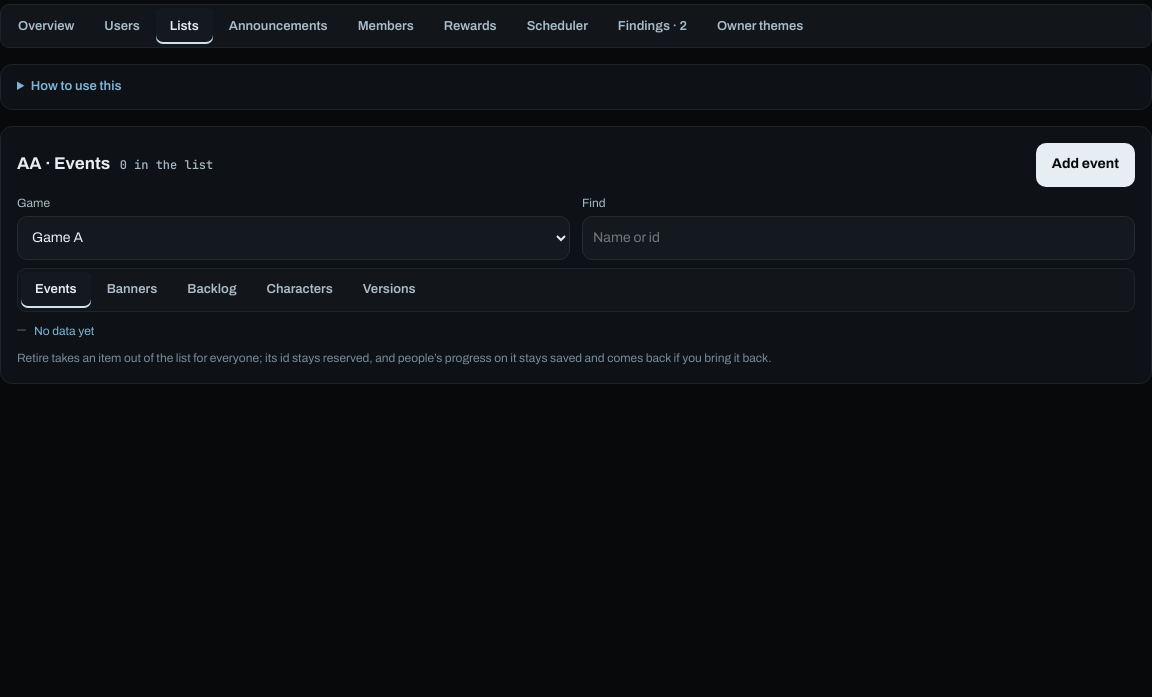
it: Owner console · Lists › adds a new event for everyone, and the game's list loader then includes it
Expected: the text "No data yet" is shown, x1=34 y1=323 x2=94 y2=340
Click the button "Add event" at (1085, 164), box x1=1036 y1=142 x2=1135 y2=186
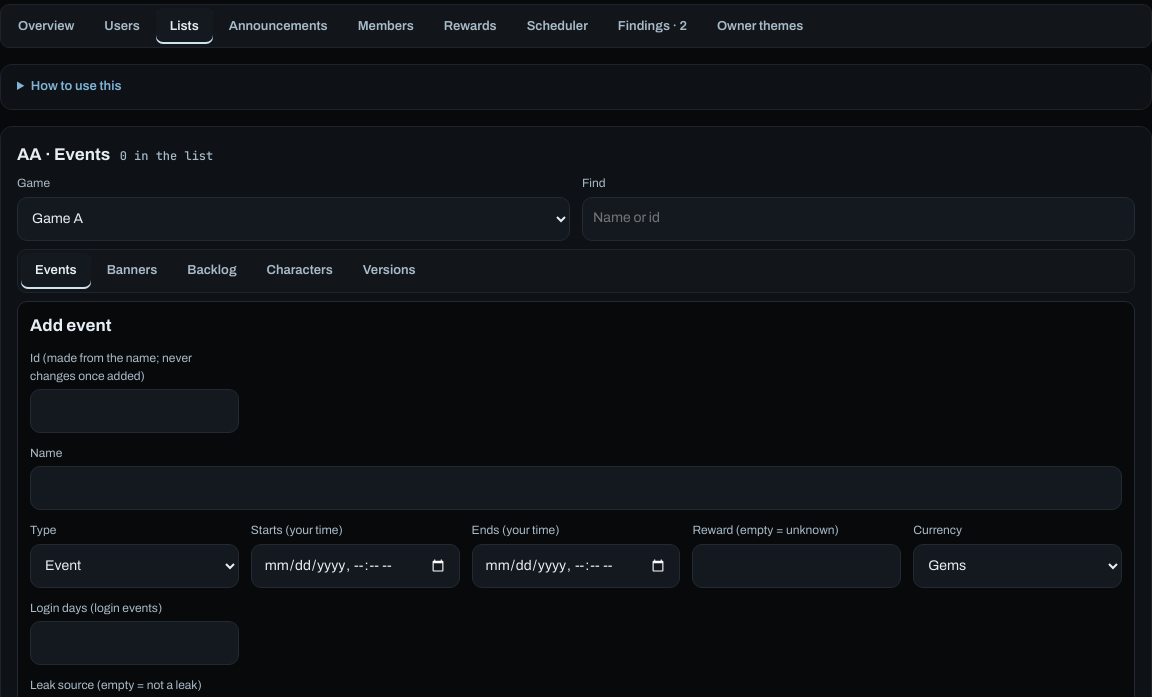
Type "Moon Festival" into the field labelled "Name" at (576, 488), box x1=30 y1=466 x2=1122 y2=510
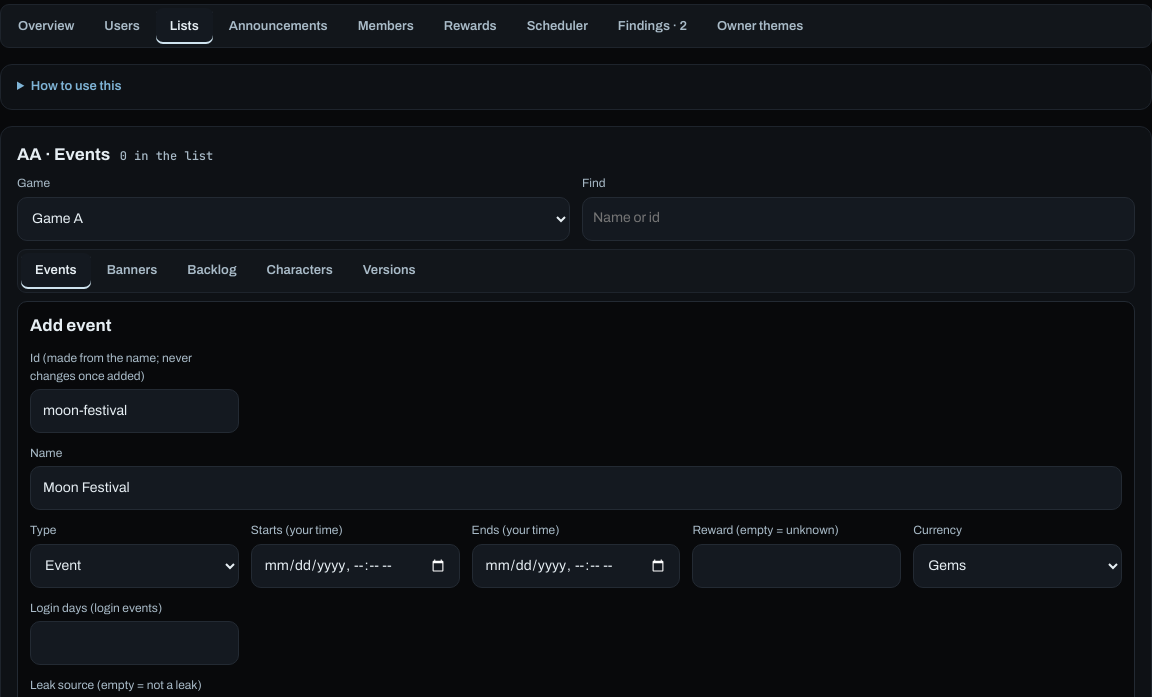
Type "2026-10-12T10:00" into the field labelled "Starts (your time)" at (355, 566), box x1=251 y1=544 x2=460 y2=588
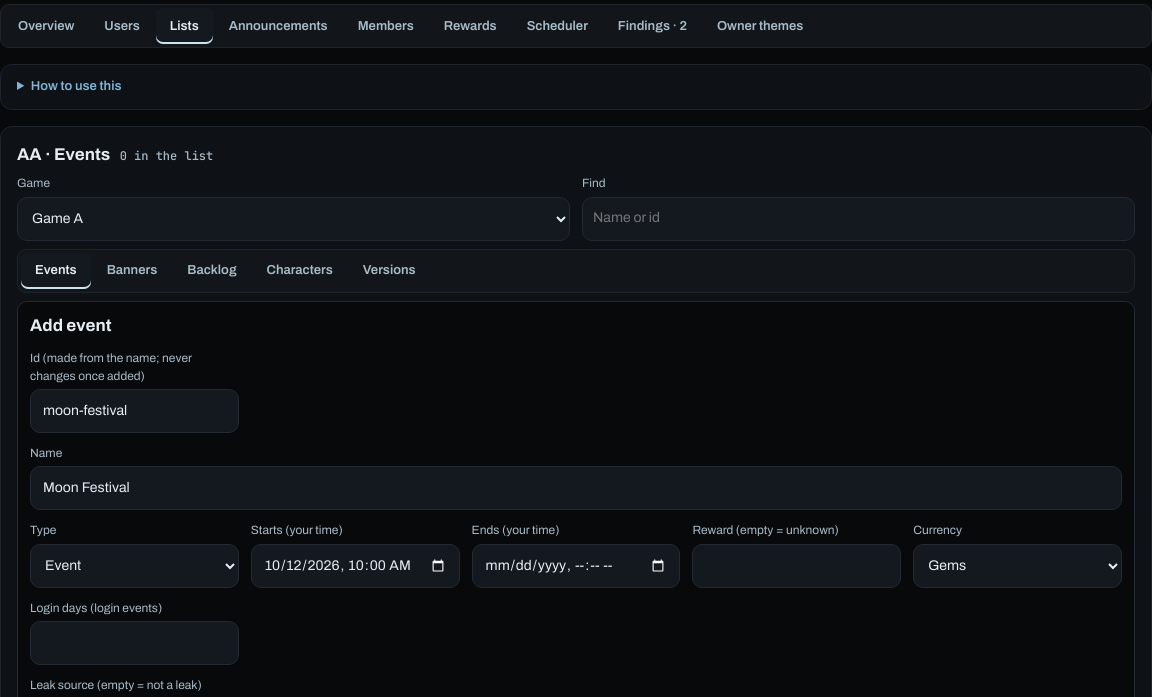
Type "2026-10-26T10:00" into the field labelled "Ends (your time)" at (576, 566), box x1=472 y1=544 x2=680 y2=588
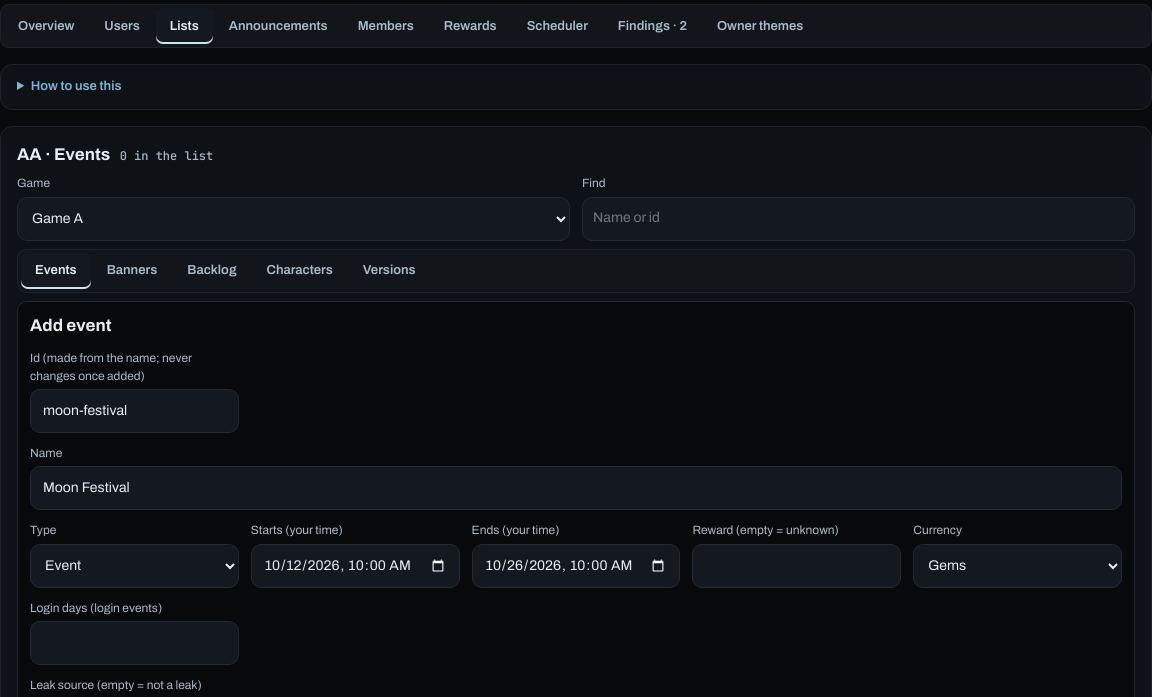
Type "420" into the field labelled "Reward (empty = unknown)" at (797, 566), box x1=692 y1=544 x2=901 y2=588
(page scrolled)
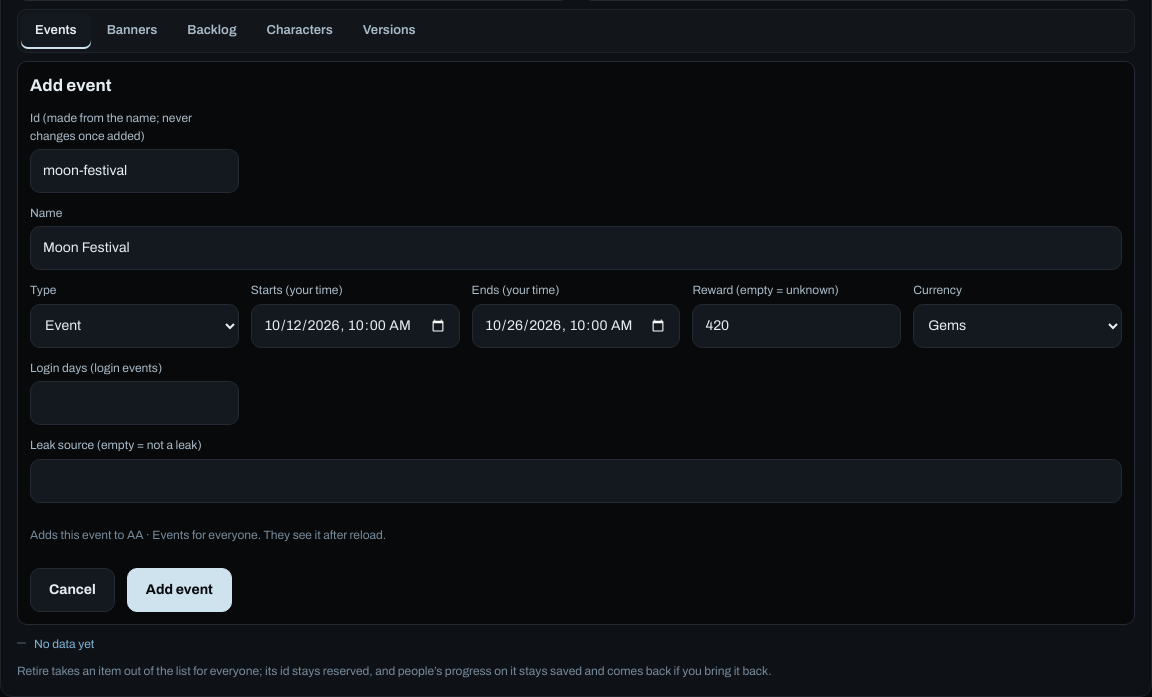
Now the text "for everyone. They see it after reload" is shown, box x1=30 y1=528 x2=386 y2=542
Click the button "Add event" at (179, 590), box x1=127 y1=568 x2=232 y2=612
(page scrolled)
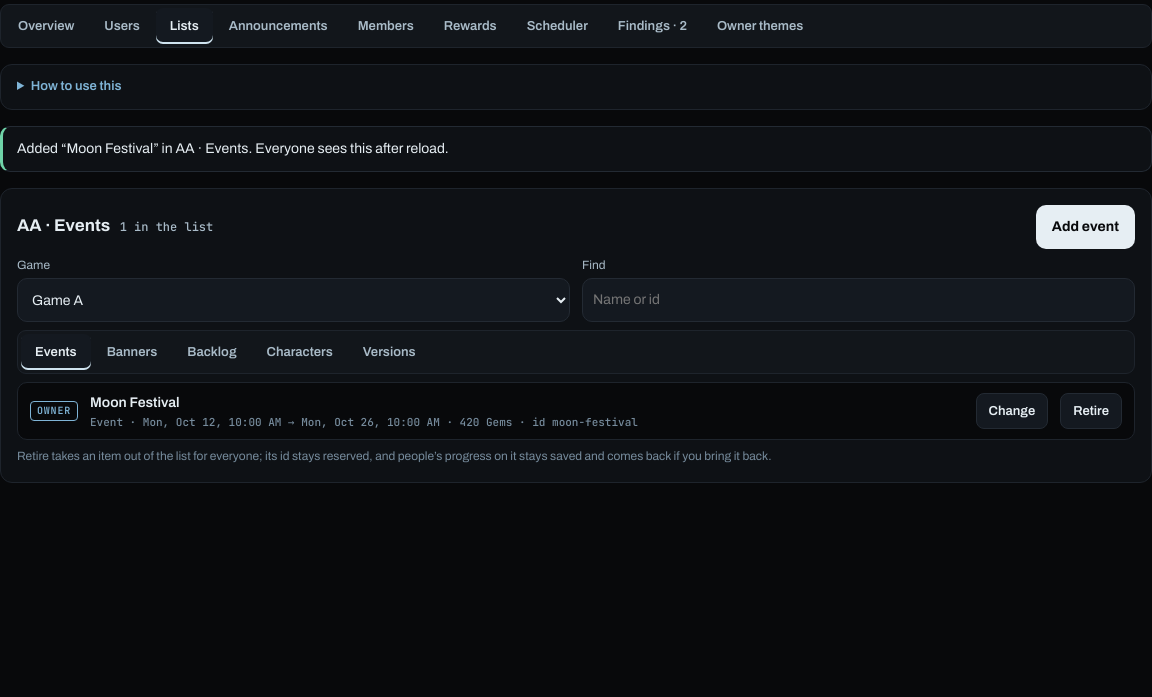
Now the message shows "Everyone sees this after reload.", box x1=17 y1=140 x2=449 y2=156
Now the text "OWNER" is shown, box x1=30 y1=401 x2=78 y2=421
